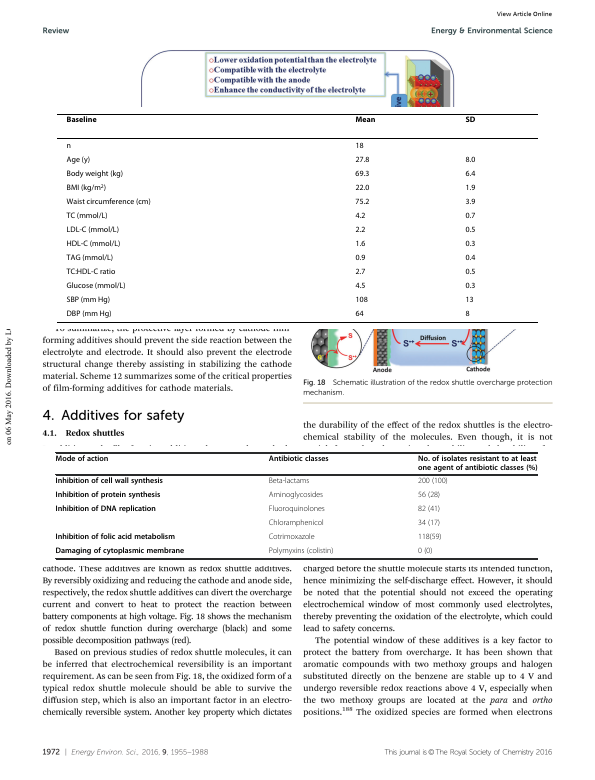borderless: (56, 112, 538, 322), (54, 451, 537, 558)
cell: (417, 455, 538, 473), (55, 547, 185, 557), (55, 533, 176, 543), (55, 477, 164, 487), (55, 491, 161, 501), (55, 505, 157, 515), (66, 197, 152, 207), (268, 547, 334, 557), (66, 281, 127, 291), (66, 169, 124, 179), (268, 505, 326, 515), (268, 491, 324, 501), (268, 519, 324, 529), (268, 455, 330, 464), (66, 239, 121, 249), (66, 225, 120, 235), (66, 267, 116, 277), (55, 455, 109, 464), (66, 253, 114, 263), (268, 533, 315, 543), (66, 309, 112, 319), (66, 295, 111, 305), (66, 211, 108, 221), (268, 477, 310, 487), (66, 183, 107, 193), (417, 477, 448, 487), (66, 115, 98, 123), (66, 155, 91, 165), (417, 533, 442, 543), (417, 491, 441, 501), (417, 505, 441, 515), (417, 519, 441, 529), (354, 115, 376, 123), (354, 155, 370, 165), (354, 169, 370, 179), (354, 183, 370, 193), (354, 197, 370, 207), (417, 547, 433, 557), (354, 295, 369, 305), (464, 155, 476, 165), (464, 169, 476, 179), (464, 183, 476, 193), (464, 197, 476, 207), (354, 211, 366, 221), (464, 211, 476, 221), (354, 225, 366, 235), (464, 225, 476, 235), (354, 239, 366, 249), (464, 239, 476, 249), (354, 253, 366, 263), (464, 253, 476, 263), (354, 267, 366, 277), (464, 267, 476, 277), (354, 281, 366, 291), (354, 141, 365, 151), (465, 281, 476, 291), (464, 295, 475, 305), (354, 309, 365, 319), (464, 115, 476, 123), (464, 309, 471, 319), (66, 141, 72, 151)
